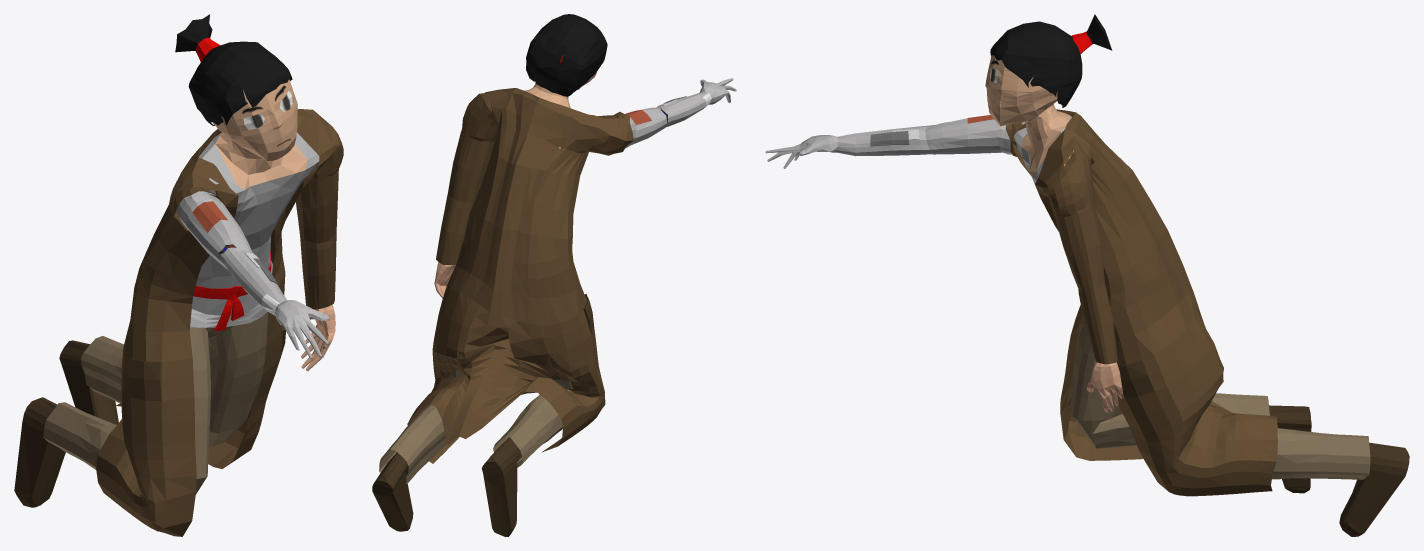
The model's file is One_Die_000042.obj.
3 views of the same model, side by side, from view 1: azimuth 30°, elevation 25°; view 2: azimuth 150°, elevation 25°; view 3: azimuth 270°, elevation 25° (orthographic). The views are drawn at different scales.
Parts seen in each view (by area): view 1: Hair_Cube.004; view 2: Hair_Cube.004; view 3: Hair_Cube.004.
Part boxes in pixels (bbox=[...]): Hair_Cube.004: bbox=[14, 14, 343, 536]; Hair_Cube.004: bbox=[372, 14, 736, 536]; Hair_Cube.004: bbox=[765, 14, 1409, 536].
Bounding box in the file's own units: 1.2 × 2.97 × 3.47.
